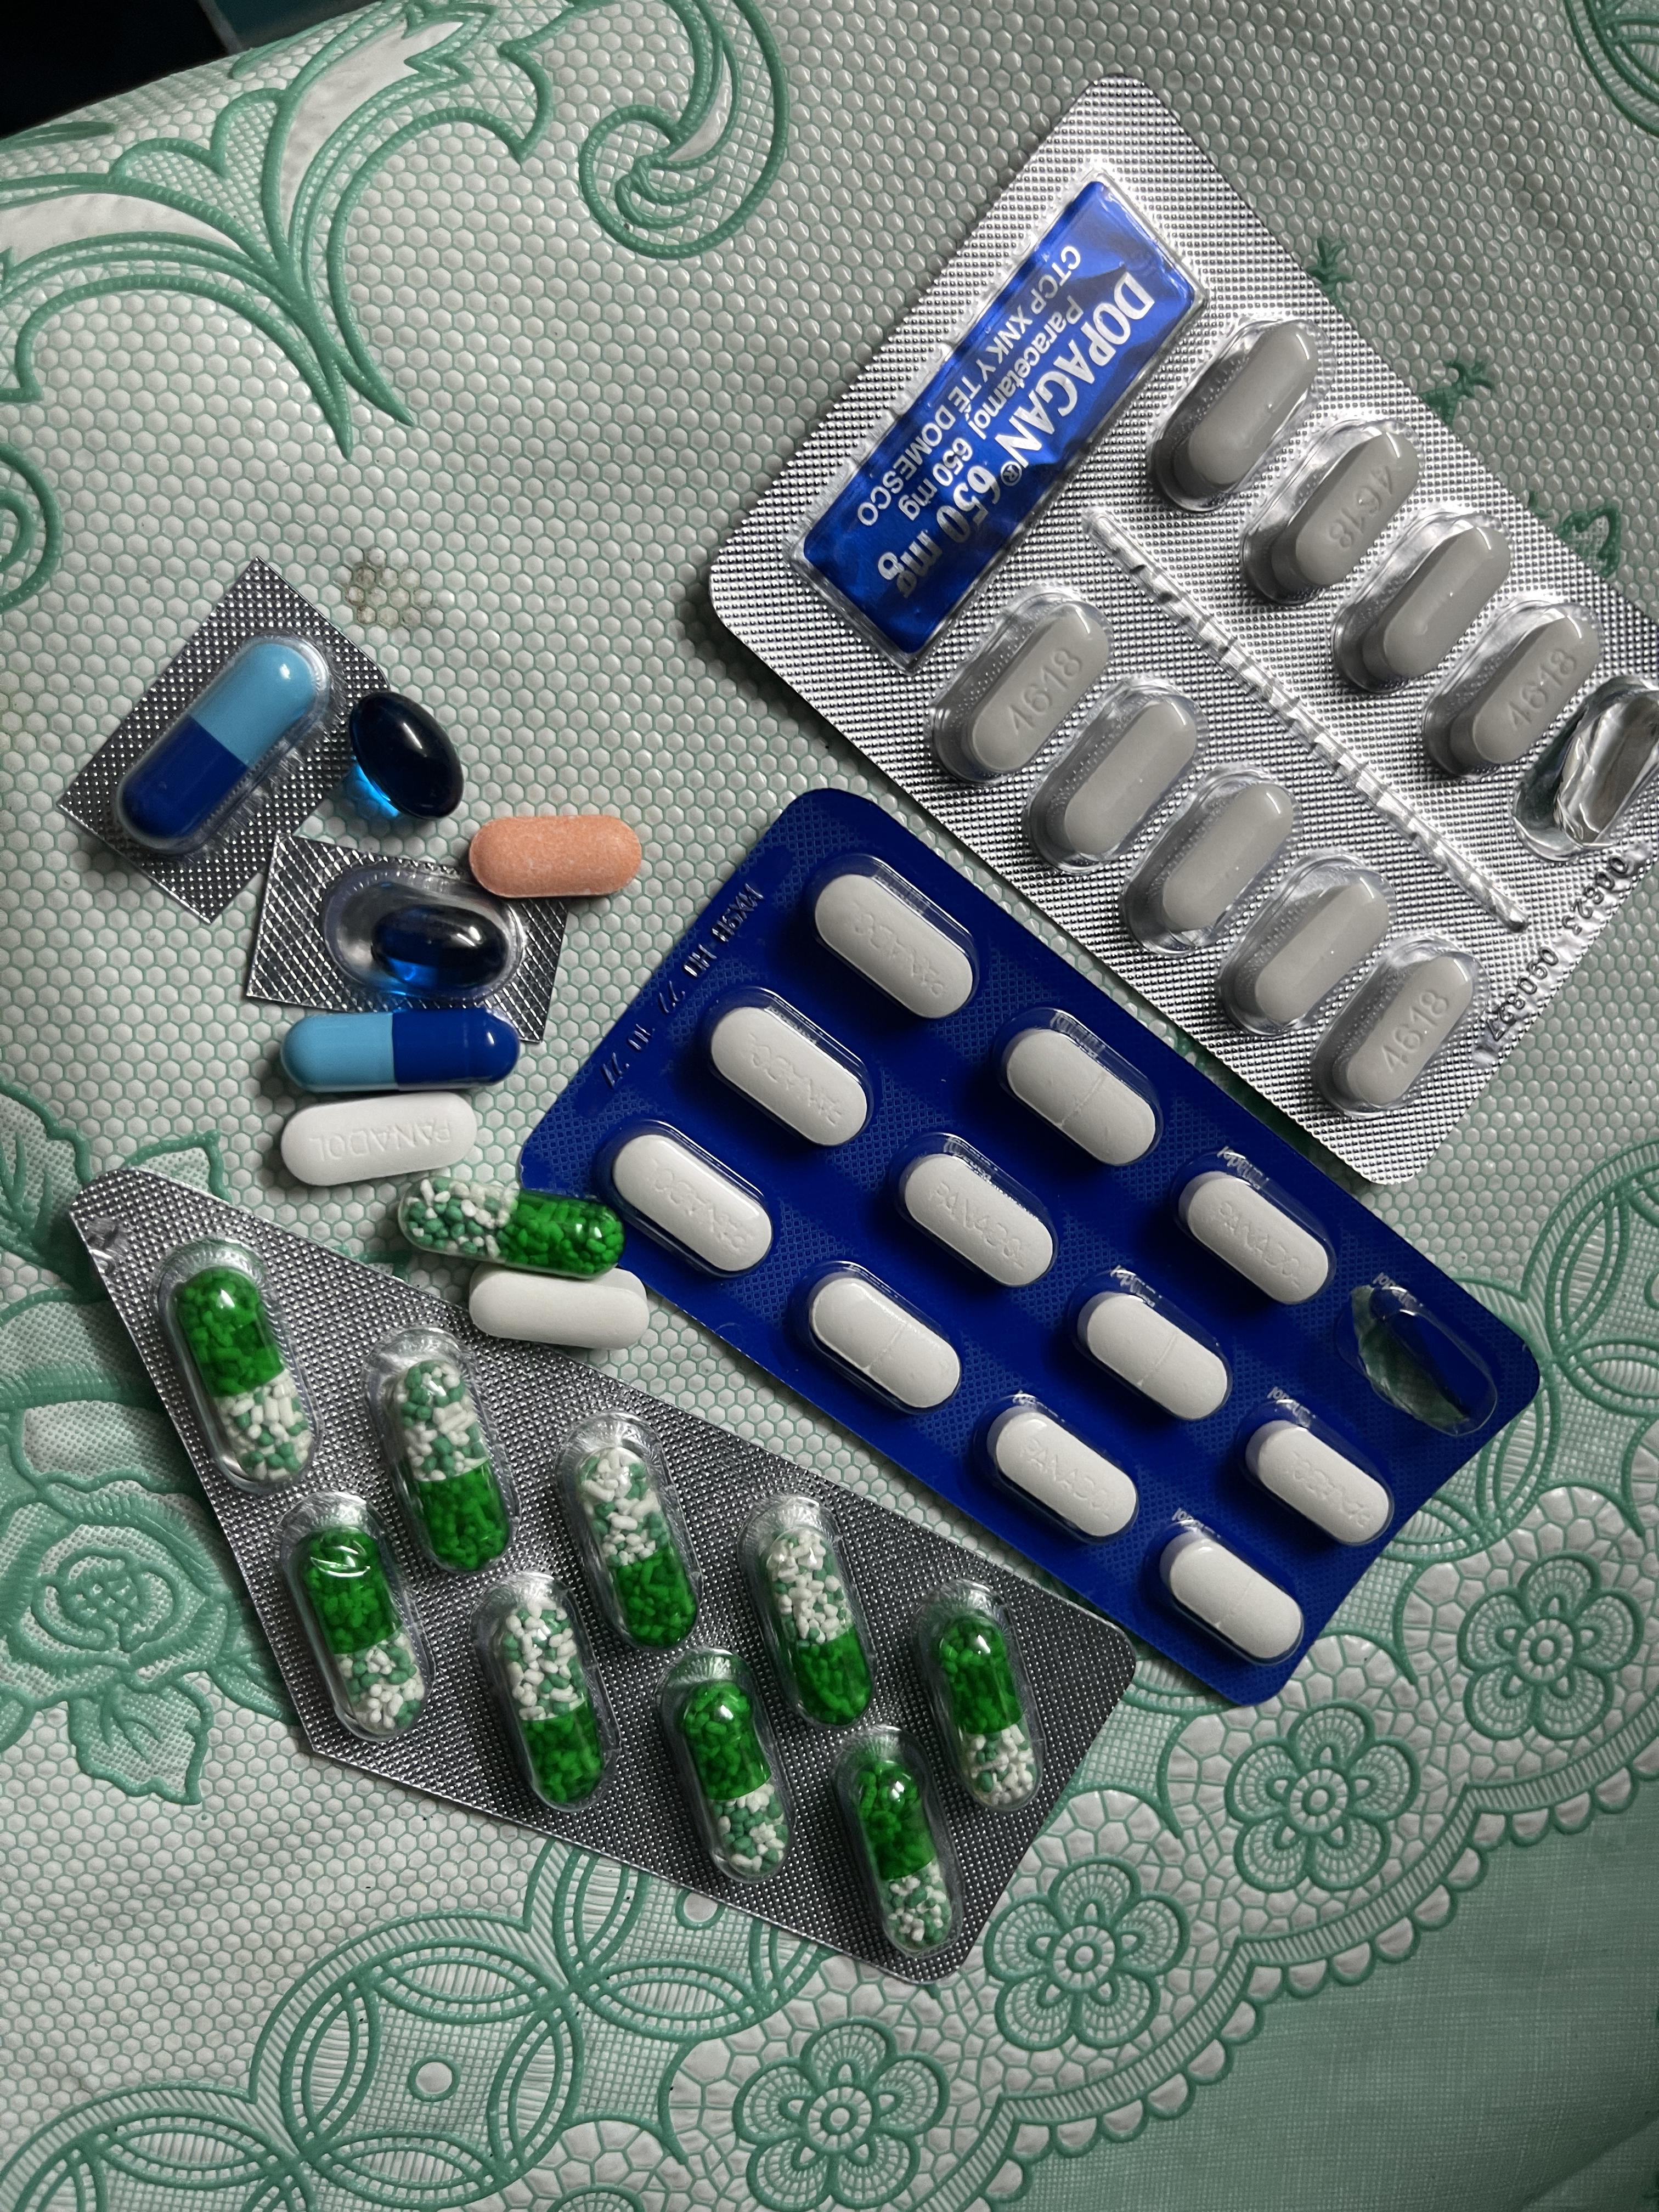Lincomyxin_500mg: (340, 691, 467, 824), (373, 904, 507, 986)
Loratadine_10mg: (467, 815, 647, 899)
Paracetamol_350mg: (601, 1120, 777, 1273), (803, 857, 971, 1007), (1173, 1151, 1337, 1303), (995, 1010, 1161, 1153), (1066, 1273, 1225, 1421), (894, 1137, 1054, 1284), (972, 1395, 1133, 1541), (709, 1007, 868, 1153), (803, 1271, 960, 1413), (1239, 1409, 1394, 1545), (1155, 1515, 1305, 1655), (281, 1090, 483, 1179)
Paracetamol_500mg: (1243, 418, 1427, 613), (931, 587, 1112, 786), (1419, 592, 1601, 782), (1145, 314, 1317, 514), (1330, 507, 1511, 697), (1023, 674, 1202, 866), (1117, 763, 1297, 942), (1215, 850, 1394, 1019), (1316, 937, 1485, 1097), (471, 1264, 653, 1348)
Paracetamol_650mg: (179, 1273, 315, 1477), (303, 1526, 427, 1731), (674, 1677, 781, 1911), (495, 1583, 603, 1808), (397, 1176, 627, 1280), (390, 1359, 507, 1555), (579, 1449, 695, 1644), (932, 1599, 1035, 1804), (767, 1527, 870, 1723), (849, 1750, 943, 1946)
pill: (115, 632, 336, 855), (282, 1007, 518, 1089)
